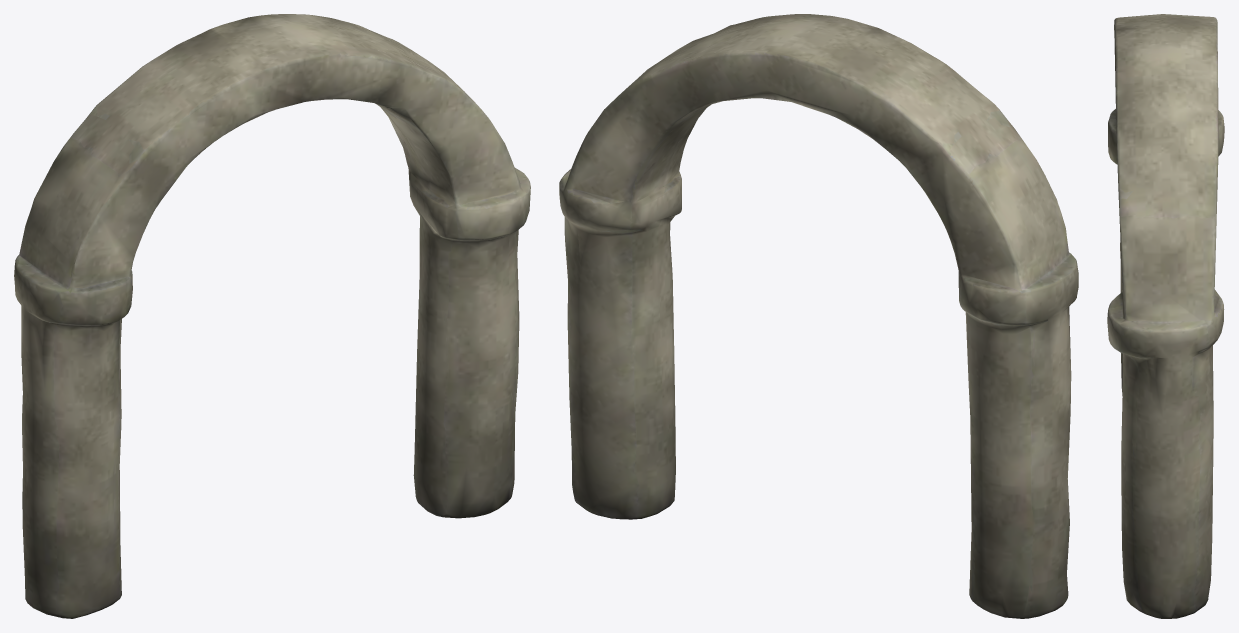
File: plain-limestone-street-arch-v001.glb
The picture shows the model from 3 angles, left to right: view 1: azimuth 30°, elevation 25°; view 2: azimuth 150°, elevation 25°; view 3: azimuth 270°, elevation 25°; orthographic projection. The views are drawn at different scales.
Visible parts, largest first — view 1: plain-limestone-street-arch; view 2: plain-limestone-street-arch; view 3: plain-limestone-street-arch.
Part boxes in pixels (x1,y1,x2,y2): plain-limestone-street-arch: (14, 14, 530, 618); plain-limestone-street-arch: (559, 14, 1078, 618); plain-limestone-street-arch: (1107, 14, 1224, 618).
Size of the model in its own units: 3.53 by 3.53 by 0.7877.
Materials: 1 (1 with a texture image).
